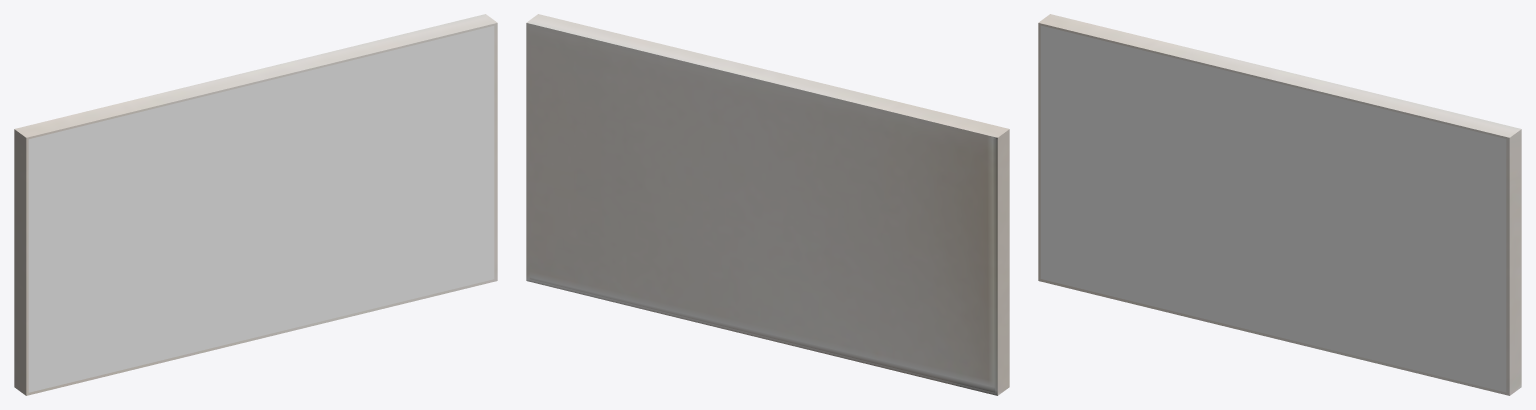
File: artSpaceLCD.glb
3 renders of one model, left to right at view 1: azimuth 30°, elevation 25°; view 2: azimuth 150°, elevation 25°; view 3: azimuth 330°, elevation 25°, orthographic.
Parts seen in each view (by area): view 1: gallery_lcd; view 2: gallery_lcd; view 3: gallery_lcd.
Part boxes in pixels (x1=…): gallery_lcd: x1=14, y1=14, x2=497, y2=395; gallery_lcd: x1=526, y1=14, x2=1009, y2=395; gallery_lcd: x1=1038, y1=14, x2=1521, y2=395.
Size of the model in its own units: 3.41 by 1.79 by 0.1508.
2 materials, 1 textured.
